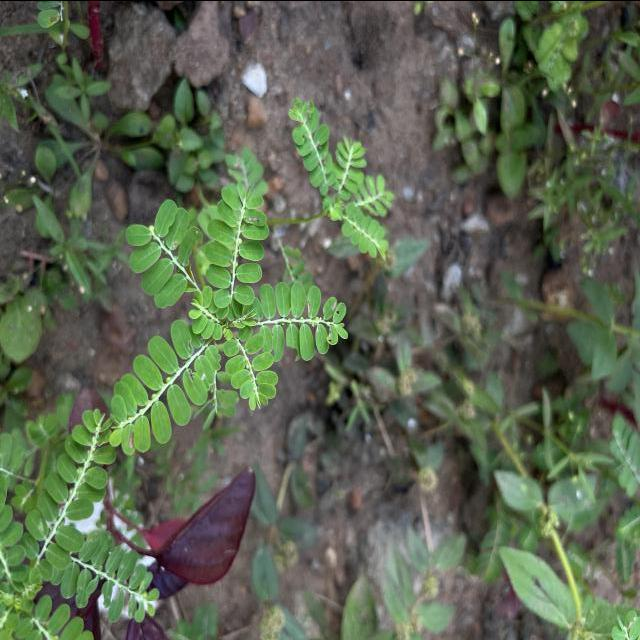Phyllanthus niruri: (106, 314, 224, 458), (22, 406, 118, 580), (51, 530, 164, 622), (200, 176, 273, 312), (122, 194, 205, 312), (248, 278, 351, 364), (222, 328, 280, 412)
